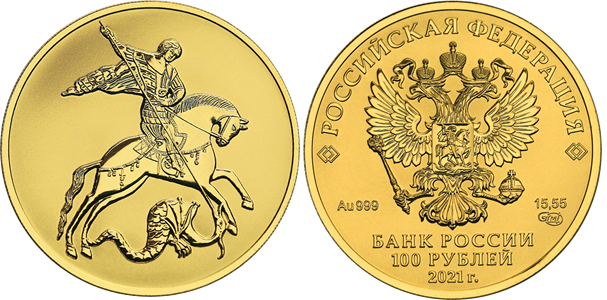coin: (2, 1, 301, 297), (306, 1, 603, 298)
